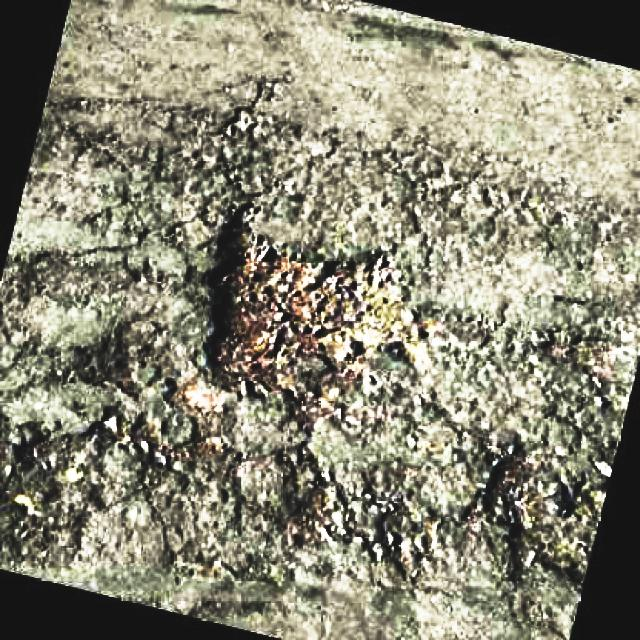pothole: (195, 192, 414, 408), (485, 443, 612, 585), (536, 300, 636, 397)
